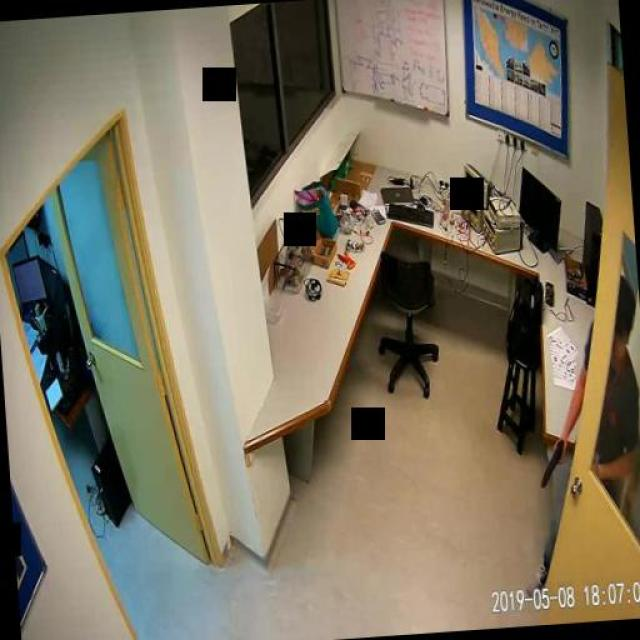gun: (535, 438, 566, 488)
